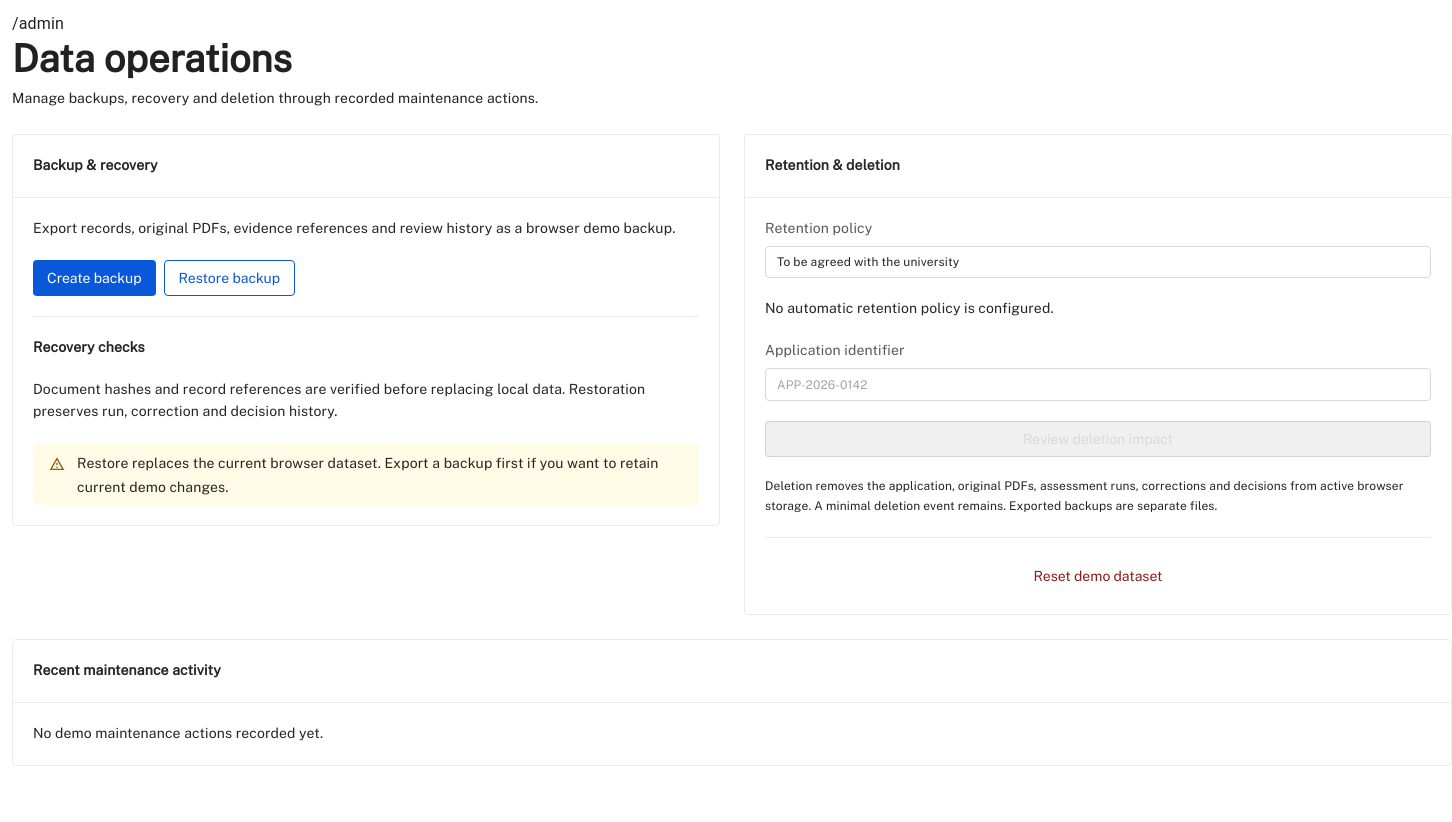
browser data maintenance › exports PDFs and record history in a JSON backup
Click the button "Create backup".
click(94, 278)  # box [33,260,156,296]
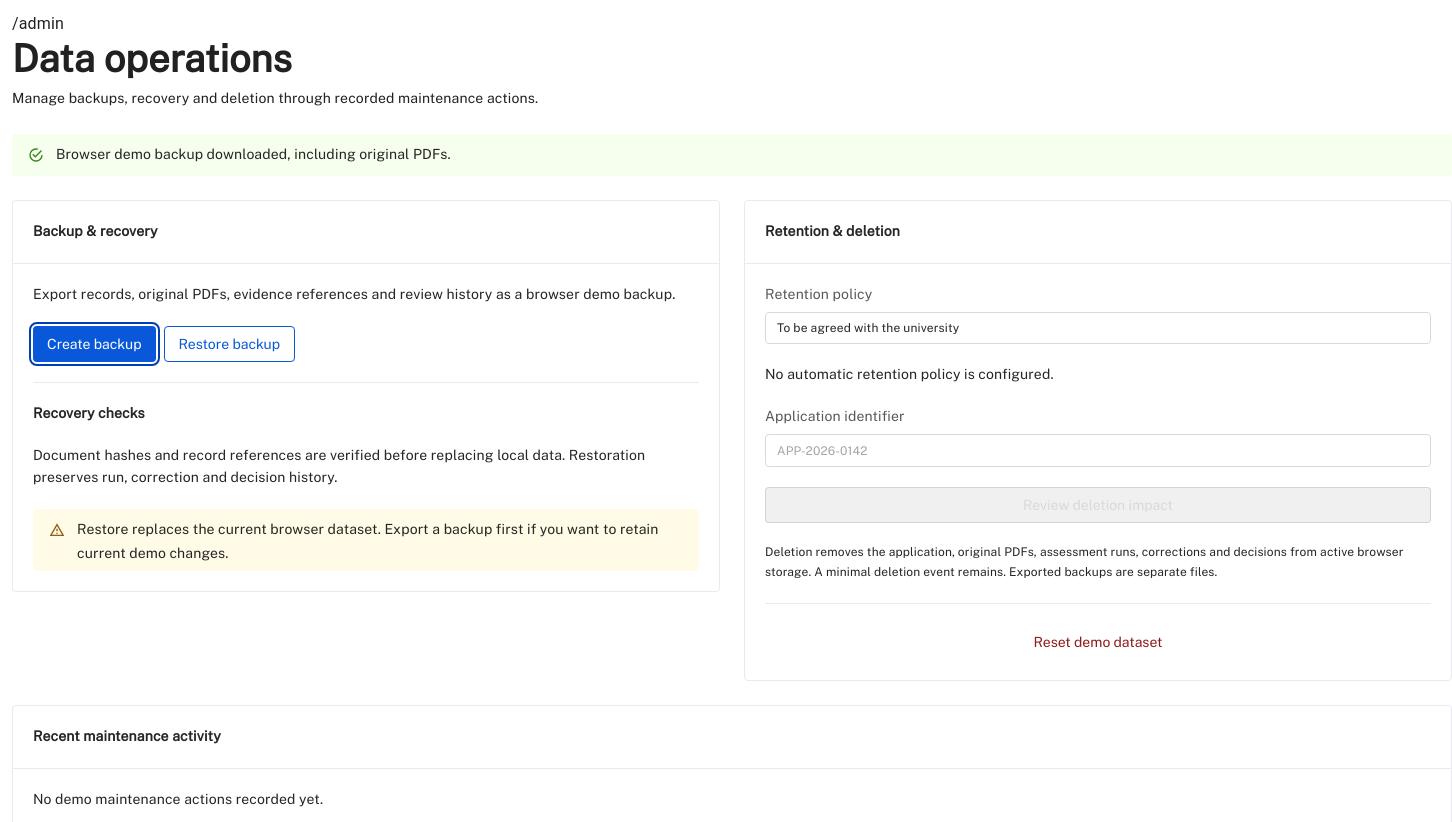
Expected: the text "Browser demo backup downloaded, including original PDFs." is shown, [56,146,451,162]
